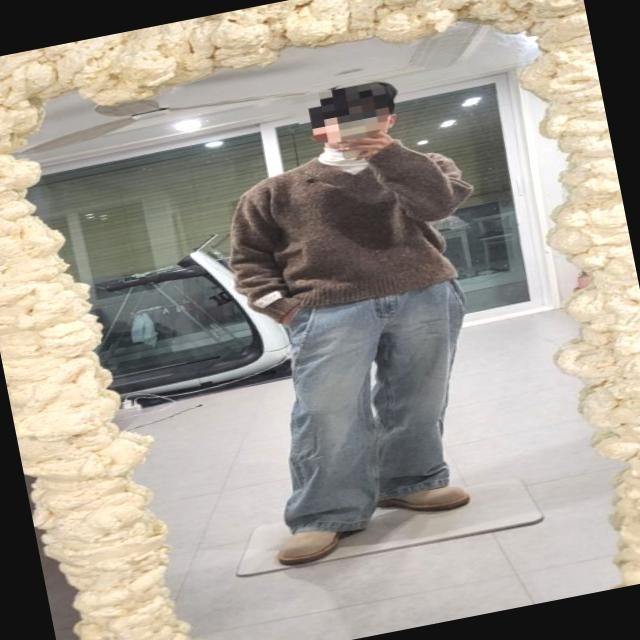denimpants: (243, 276, 500, 545)
sweater: (208, 121, 494, 328)
